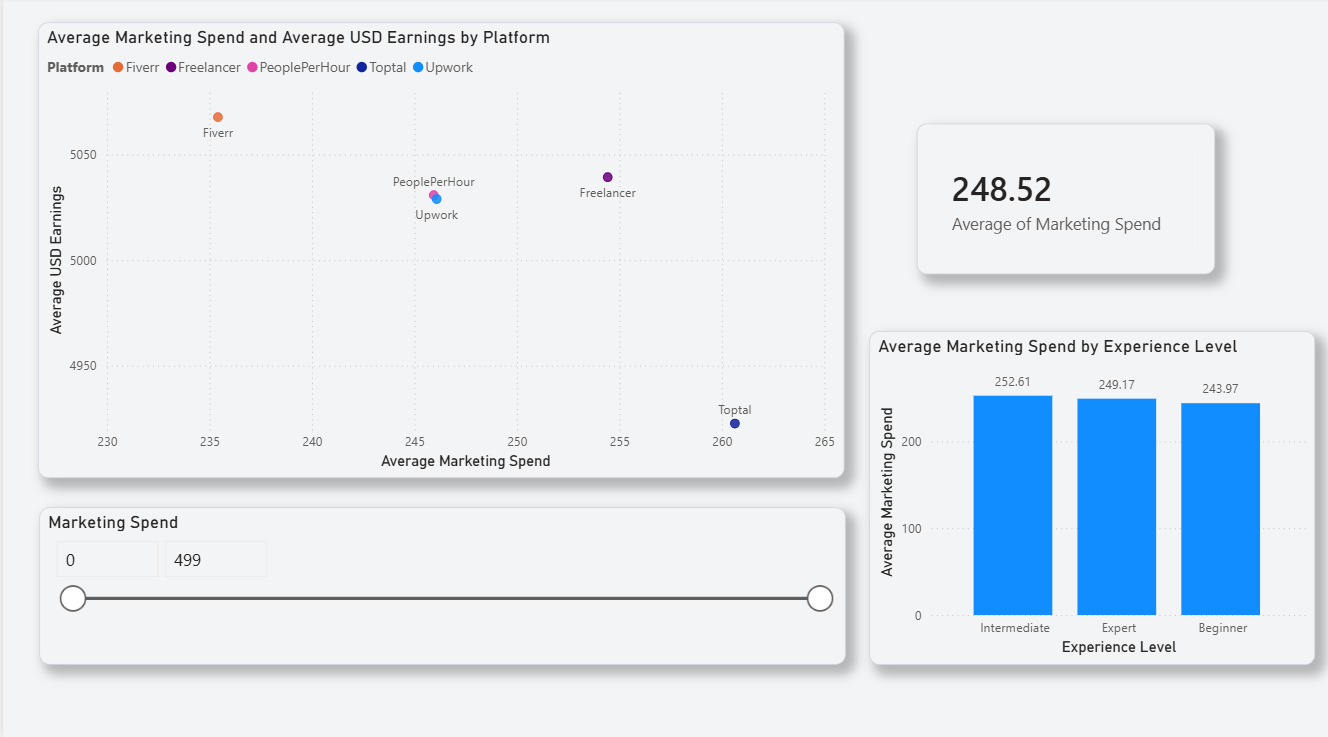

What the dashboard file says about the page in this screenshot:
{"tool":"powerbi","page":{"name":"Marketing Spend","canvas":[1280,720],"ordinal":8},"visuals":[{"type":"scatterChart","title":"Average Marketing Spend and Average USD Earnings by Platform","fields":{"Series":["freelancer_earnings_bd - freelancer_earnings_bd csv csv.Platform"],"X":["Avg(freelancer_earnings_bd - freelancer_earnings_bd csv csv.Marketing Spend)"],"Y":["Avg(freelancer_earnings_bd - freelancer_earnings_bd csv csv.Earnings USD)"]},"box":[33.8,25.3,778.2,440.4],"z":0},{"type":"clusteredColumnChart","title":"Average  Marketing Spend by Experience Level","fields":{"Category":["freelancer_earnings_bd - freelancer_earnings_bd csv csv.Experience Level"],"Y":["Avg(freelancer_earnings_bd - freelancer_earnings_bd csv csv.Marketing Spend)"]},"box":[836.1,323.3,430.7,322.1],"z":1000},{"type":"slicer","title":"Marketing Spend","fields":{"Values":["freelancer_earnings_bd - freelancer_earnings_bd csv csv.Marketing Spend"]},"box":[35,493.4,778.2,152],"z":2000},{"type":"cardVisual","fields":{"Data":["Avg(freelancer_earnings_bd - freelancer_earnings_bd csv csv.Marketing Spend)"]},"box":[881.9,123.1,288.3,146],"z":3000}]}

Visuals, with their boxes in screenshot pixels (x1, y1, x2, y2), scaled from the page's 1280x720 canvas onto the 1328x737 screenshot:
"Average Marketing Spend and Average USD Earnings by Platform" scatterChart: 35/26/842/477
"Average  Marketing Spend by Experience Level" clusteredColumnChart: 867/331/1314/661
"Marketing Spend" slicer: 36/505/844/661
cardVisual - Avg(freelancer_earnings_bd - freelancer_earnings_bd csv csv.Marketing Spend): 915/126/1214/275
